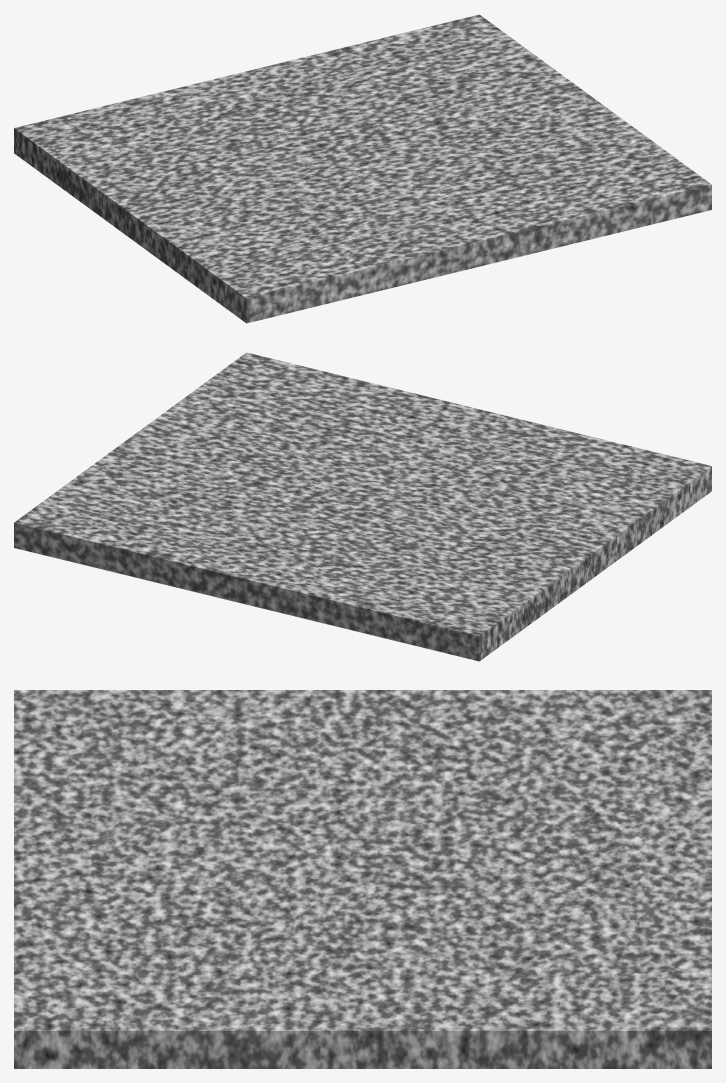
The model's file is ust.fbx.
3 renders of one model, top to bottom at view 1: azimuth 30°, elevation 25°; view 2: azimuth 150°, elevation 25°; view 3: azimuth 270°, elevation 25°, orthographic. The views are drawn at different scales.
Visible parts, largest first — view 1: Cube; view 2: Cube; view 3: Cube.
Boxes of the visible parts, x1=… form: Cube: x1=14, y1=14, x2=711, y2=323; Cube: x1=14, y1=352, x2=711, y2=661; Cube: x1=14, y1=690, x2=711, y2=1068.
Bounding box in the file's own units: 236 × 12.23 × 204.
Materials: 1 (1 with a texture image).
